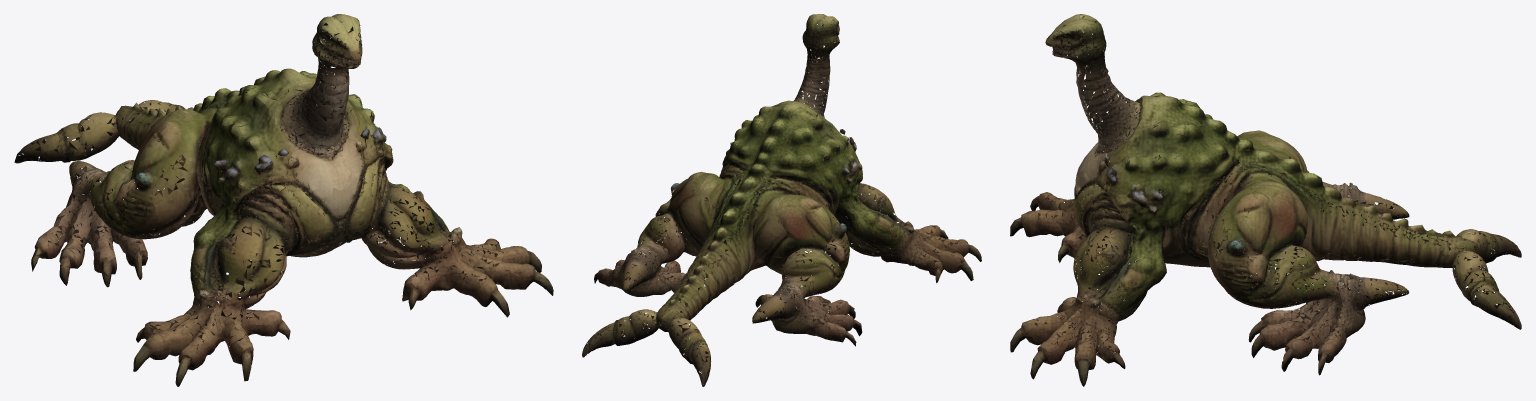
The model's file is three-ref-invent-seed718021.glb.
3 renders of one model, left to right at view 1: azimuth 30°, elevation 25°; view 2: azimuth 150°, elevation 25°; view 3: azimuth 270°, elevation 25°, orthographic. The views are drawn at different scales.
Visible parts, largest first — view 1: world; view 2: world; view 3: world.
Boxes of the visible parts, bbox=[...] form: world: bbox=[14, 14, 553, 386]; world: bbox=[582, 14, 981, 386]; world: bbox=[1010, 14, 1521, 386].
Bounding box in the file's own units: 0.8405 × 0.611 × 1.
Materials: 1 (1 with a texture image).
